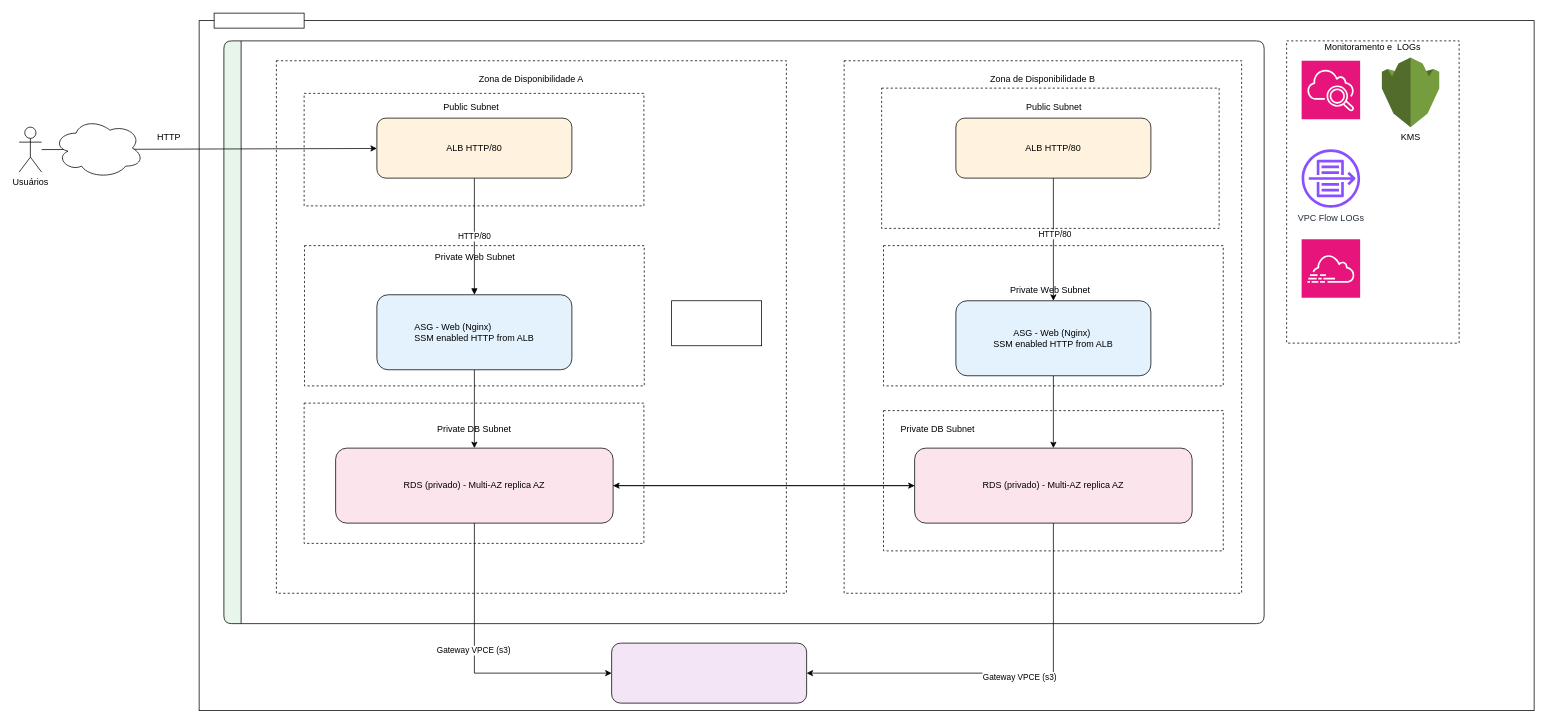
The diagram is 1547 pixels wide and 724 high, and some of its shapes have lost their labels. The shapes that lost their labels are listed below. From the top down, each one's box as (x1, y1, x2, y2) in pixels, then its label:
(213, 12, 304, 28): AWS
(1301, 60, 1360, 119): CloudWatch
(53, 117, 144, 178): Internet
(1301, 238, 1360, 298): CloudTrail
(671, 300, 762, 346): Bastion HostSSH: my_ip/32
(223, 40, 1264, 624): VPC - 10.10.0.0./16
(611, 642, 807, 703): S3 Backup Bucket SSE-KMS • PutObject via VPCE
